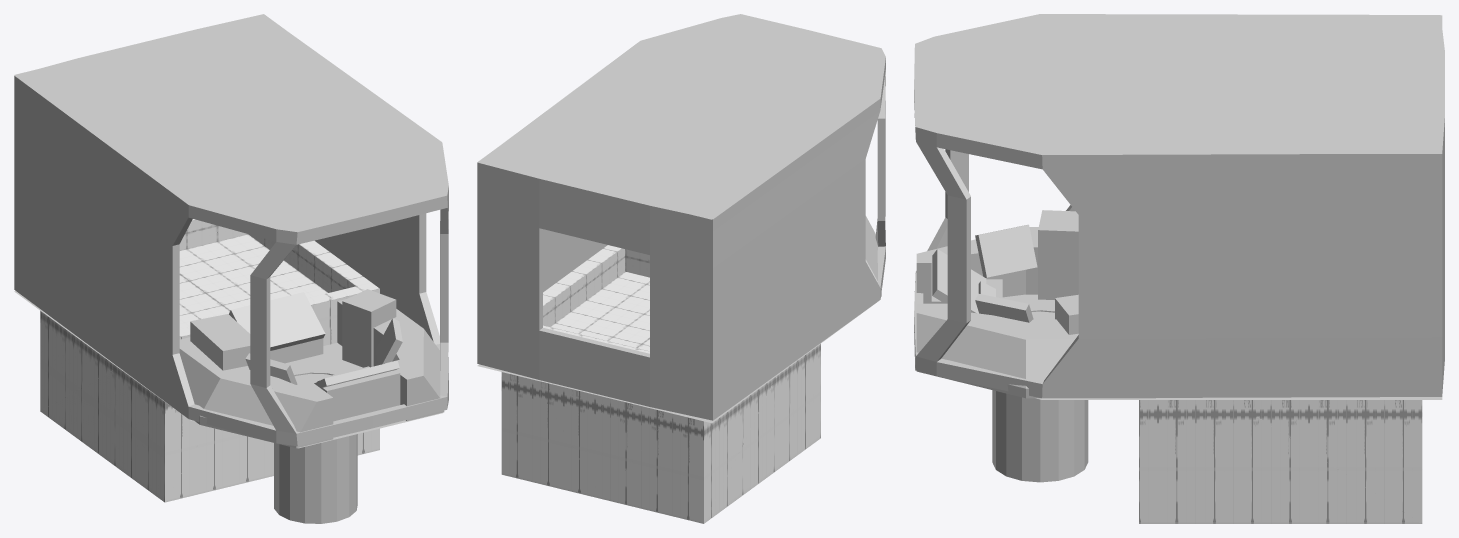
The model's file is SM_Cockpitv3.fbx.
3 views of the same model, side by side, from view 1: azimuth 30°, elevation 25°; view 2: azimuth 150°, elevation 25°; view 3: azimuth 270°, elevation 25° (orthographic). The views are drawn at different scales.
Visible parts, largest first — view 1: Plane.005, Plane.008, Sprite.013, Cube.034, Plane.007, Cube.040, Cube.038, Cube.037, Cube.042, Cube.041, Cube.036, Cube.039; view 2: Plane.005, Plane.008, Sprite.013, Plane.007, Cube.034; view 3: Plane.005, Plane.008, Sprite.013, Cube.034, Plane.007, Cube.042, Cube.041, Cube.039, Cube.040.
Part boxes in pixels (bbox=[...]): Plane.005: bbox=[14, 14, 448, 446]; Plane.008: bbox=[14, 14, 440, 228]; Sprite.013: bbox=[40, 219, 379, 502]; Cube.034: bbox=[179, 299, 444, 448]; Plane.007: bbox=[14, 291, 442, 523]; Cube.040: bbox=[342, 289, 396, 367]; Cube.038: bbox=[229, 292, 325, 350]; Cube.037: bbox=[321, 370, 400, 421]; Cube.042: bbox=[190, 314, 250, 370]; Cube.041: bbox=[245, 318, 402, 384]; Cube.036: bbox=[270, 338, 323, 363]; Cube.039: bbox=[314, 360, 399, 388]; Plane.005: bbox=[477, 14, 885, 420]; Plane.008: bbox=[477, 17, 878, 219]; Sprite.013: bbox=[501, 245, 820, 523]; Plane.007: bbox=[477, 303, 875, 423]; Cube.034: bbox=[865, 216, 881, 296]; Plane.005: bbox=[914, 14, 1444, 398]; Plane.008: bbox=[923, 15, 1442, 153]; Sprite.013: bbox=[1139, 400, 1422, 523]; Cube.034: bbox=[916, 227, 1155, 398]; Plane.007: bbox=[915, 294, 1442, 482]; Cube.042: bbox=[1038, 210, 1078, 299]; Cube.041: bbox=[975, 224, 1037, 322]; Cube.039: bbox=[932, 249, 986, 313]; Cube.040: bbox=[1055, 294, 1078, 334].
Bounding box in the file's own units: 8.3 × 10.4 × 13.17.
Materials: 1 (1 with a texture image).
